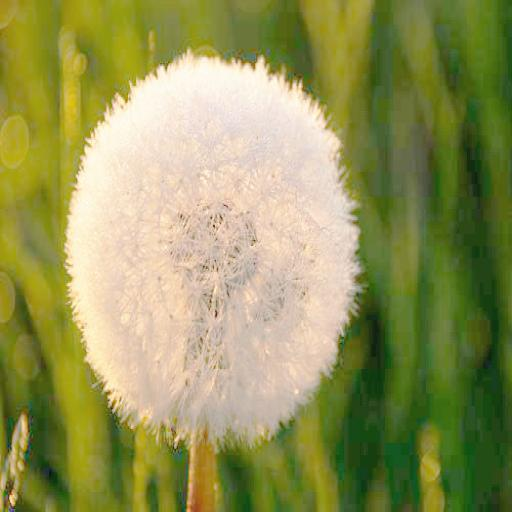dandelion: (64, 46, 356, 440)
